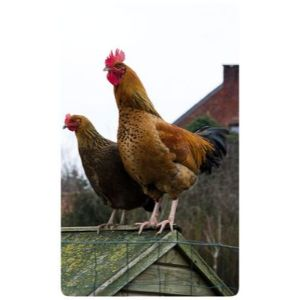hen: (102, 43, 229, 233), (59, 108, 160, 232)
